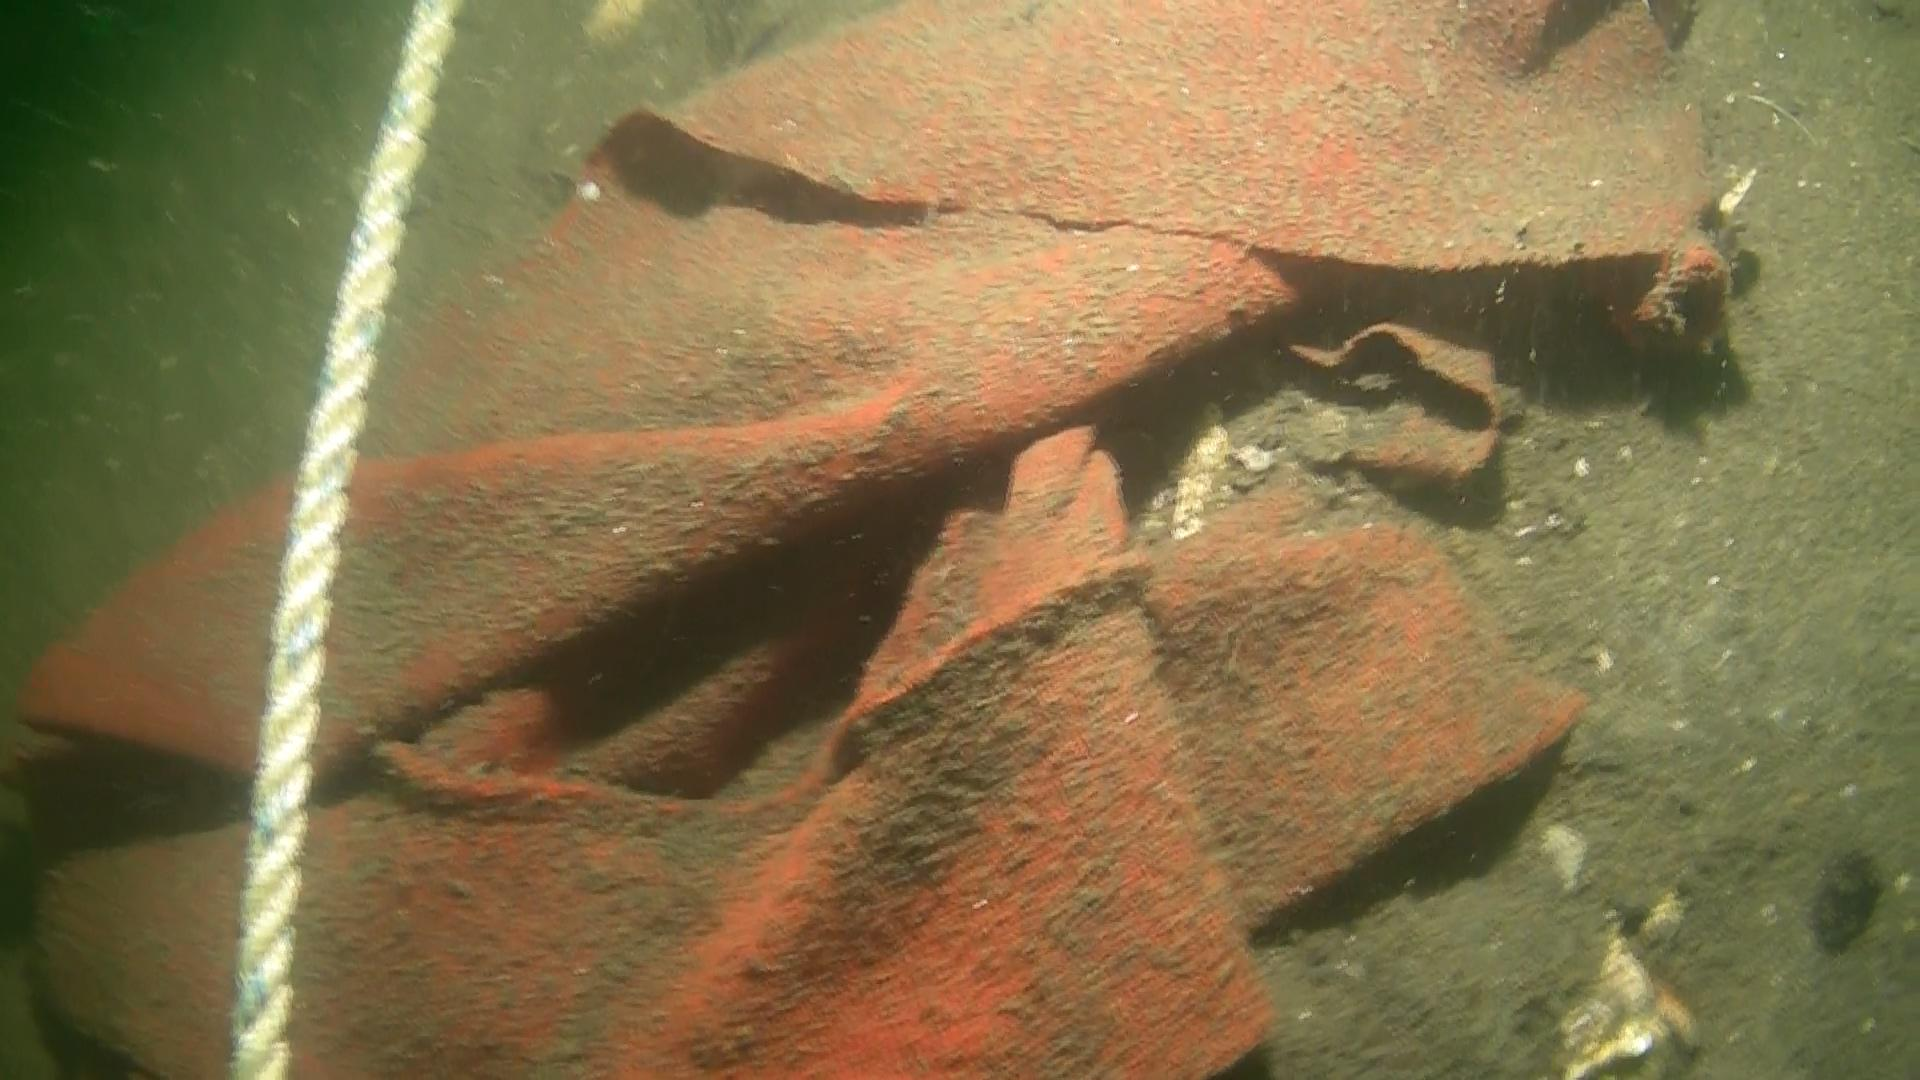rope: (227, 0, 465, 1080)
